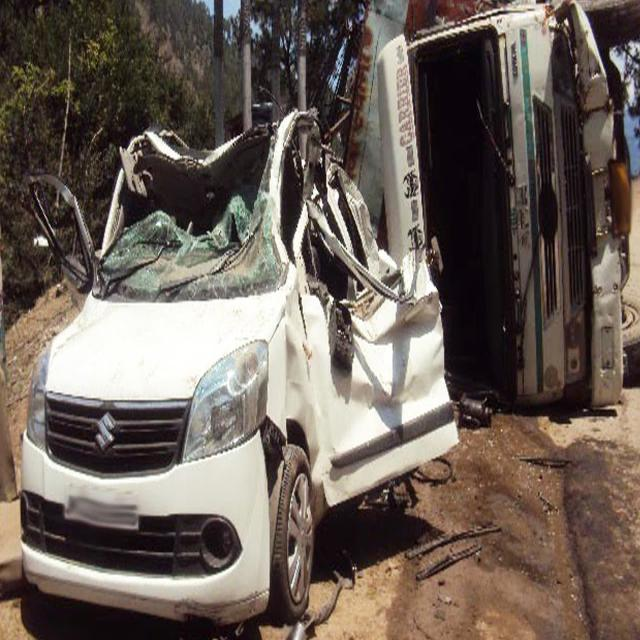accident: (21, 111, 458, 624), (379, 0, 640, 407)
